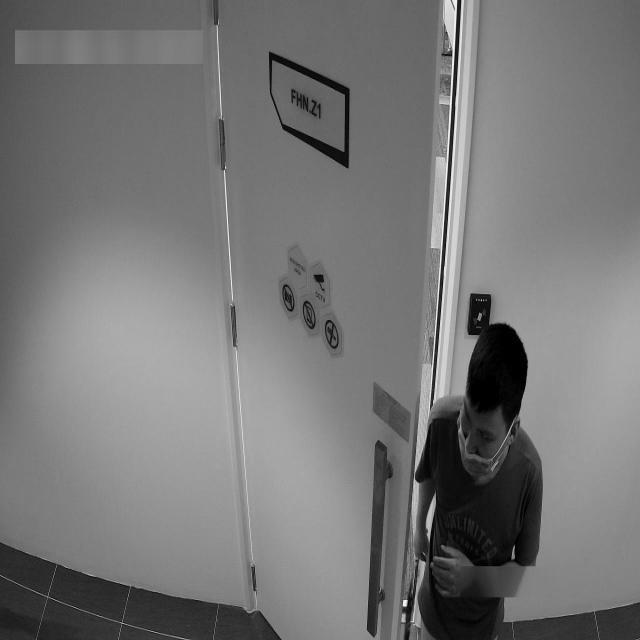hairnet: (455, 431, 512, 481)
